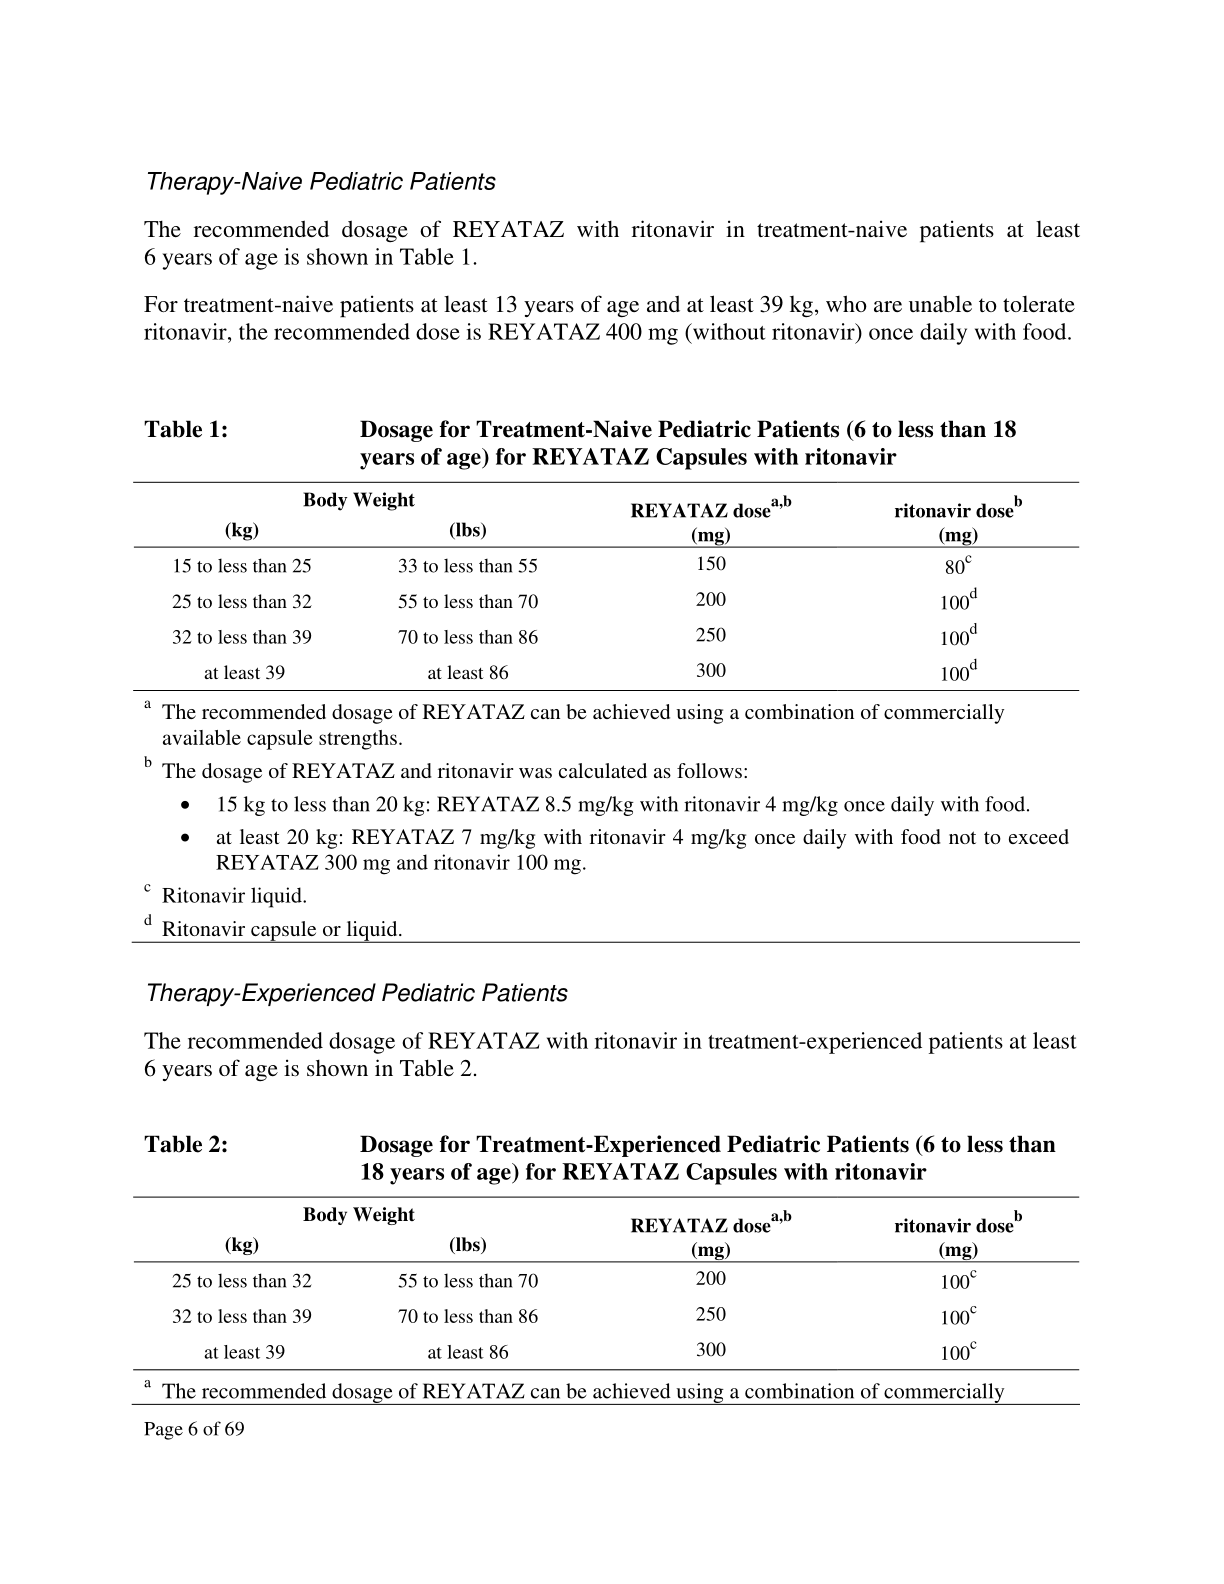partial_lined_merged_cells: (127, 1191, 1086, 1407), (132, 478, 1086, 692)
